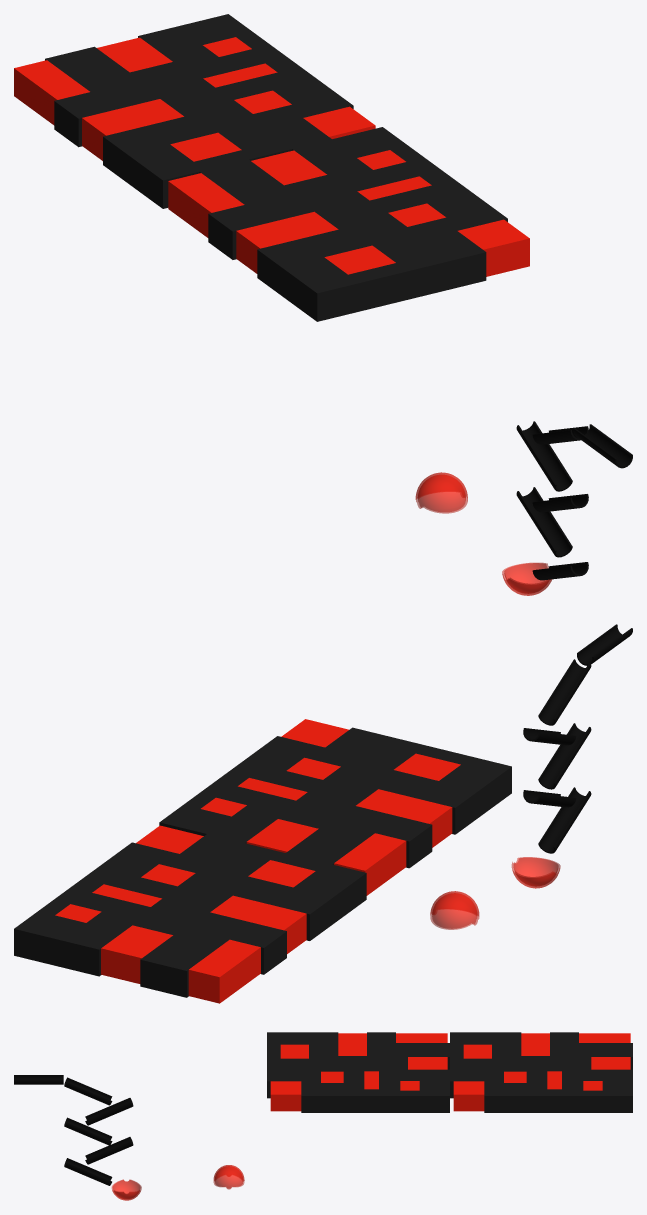
File: CascadaDeTubosConBolaTranspYBaseHueco.FBX
The picture shows the model from 3 angles, top to bottom: view 1: azimuth 30°, elevation 25°; view 2: azimuth 150°, elevation 25°; view 3: azimuth 270°, elevation 25°; orthographic projection. The views are drawn at different scales.
Parts seen in each view (by area): view 1: Box004, Box006, Box003, Box005, Mesh001, Tube002, Tube004, Sphere001, Tube005; view 2: Box006, Box004, Box005, Box003, Mesh001, Tube001, Tube006, Tube003, Sphere001, Tube005, Tube002, Tube004; view 3: Box006, Box004, Box003, Box005, Mesh001, Tube001, Tube002, Tube004, Tube003, Tube006, Tube005, Sphere001.
Boxes of the visible parts, x1,y1,x2,y2 form: Box004: (199,127,507,321); Box006: (45,14,353,208); Box003: (168,150,529,276); Box005: (14,37,375,161); Mesh001: (415,472,467,513); Tube002: (516,421,572,491); Tube004: (516,487,572,557); Sphere001: (502,562,552,595); Tube005: (573,424,632,468); Box006: (14,834,366,997); Box004: (159,727,511,868); Box005: (55,825,315,1003); Box003: (201,719,460,895); Mesh001: (430,891,479,929); Tube001: (538,659,591,725); Tube006: (538,787,591,853); Tube003: (538,723,591,789); Sphere001: (511,857,560,888); Tube005: (577,624,632,665); Tube002: (523,728,576,745); Tube004: (523,790,576,807); Box006: (450,1032,632,1112); Box004: (267,1032,449,1112); Box003: (270,1033,447,1111); Box005: (453,1033,630,1111); Mesh001: (213,1165,244,1189); Tube001: (64,1077,112,1105); Tube002: (85,1098,133,1125); Tube004: (85,1137,133,1164); Tube003: (64,1117,112,1145); Tube006: (64,1158,112,1185); Tube005: (14,1075,63,1084); Sphere001: (111,1179,141,1200).
Size of the model in its own units: 219 by 224 by 899.
